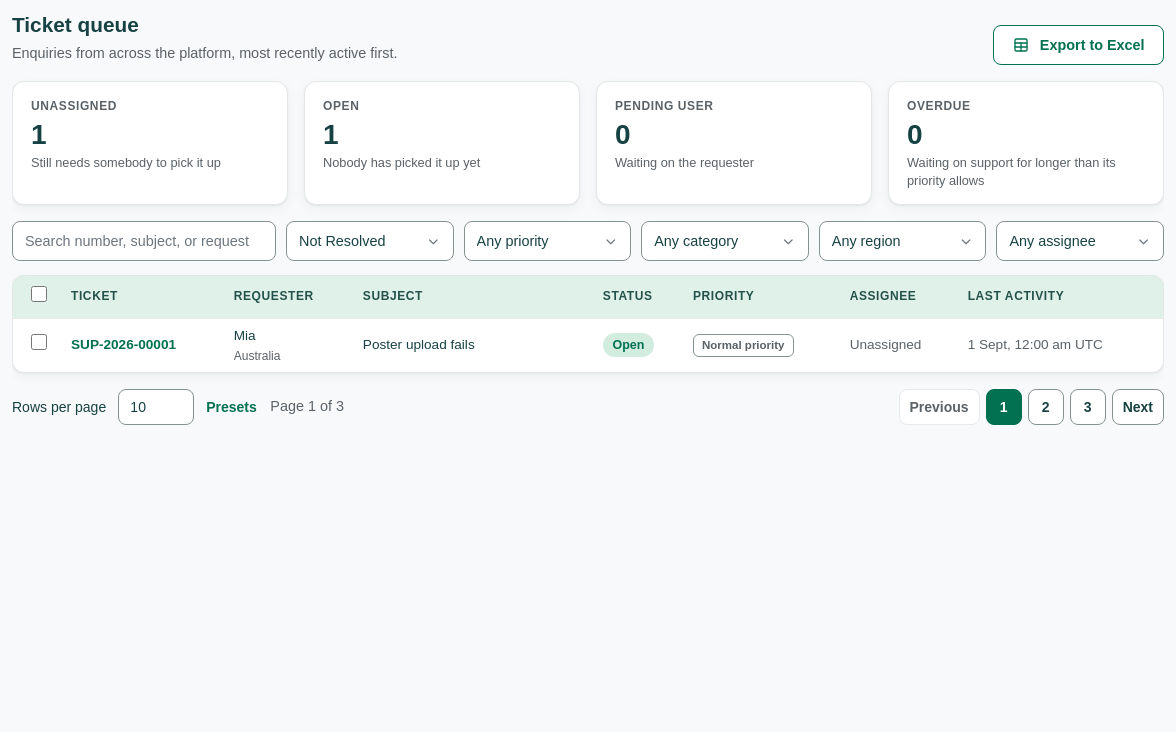
Scenario: an empty page › does not claim nothing matches when the rows ahead were worked
Click the button "Next" at (1138,407), box top-left (1112, 389), bottom-right (1164, 425)
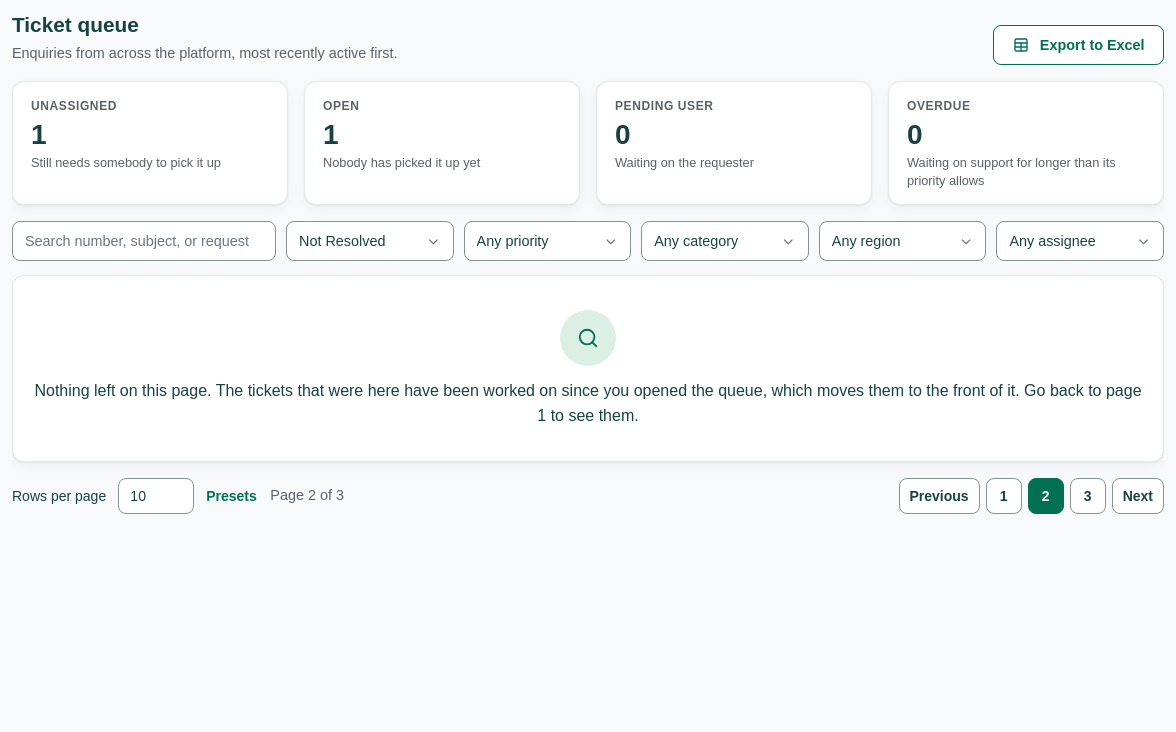
Expected: the text "Nothing left on this page. The tickets that were here have been worked on since you opened the queue, which moves them to the front of it. Go back to page 1 to" is shown, top-left (34, 382), bottom-right (1142, 424)
